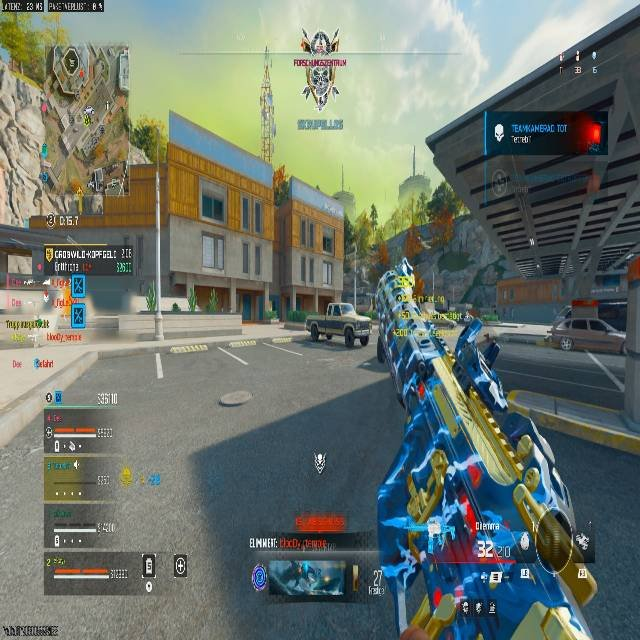player: (374, 266, 415, 343), (551, 304, 574, 330)
